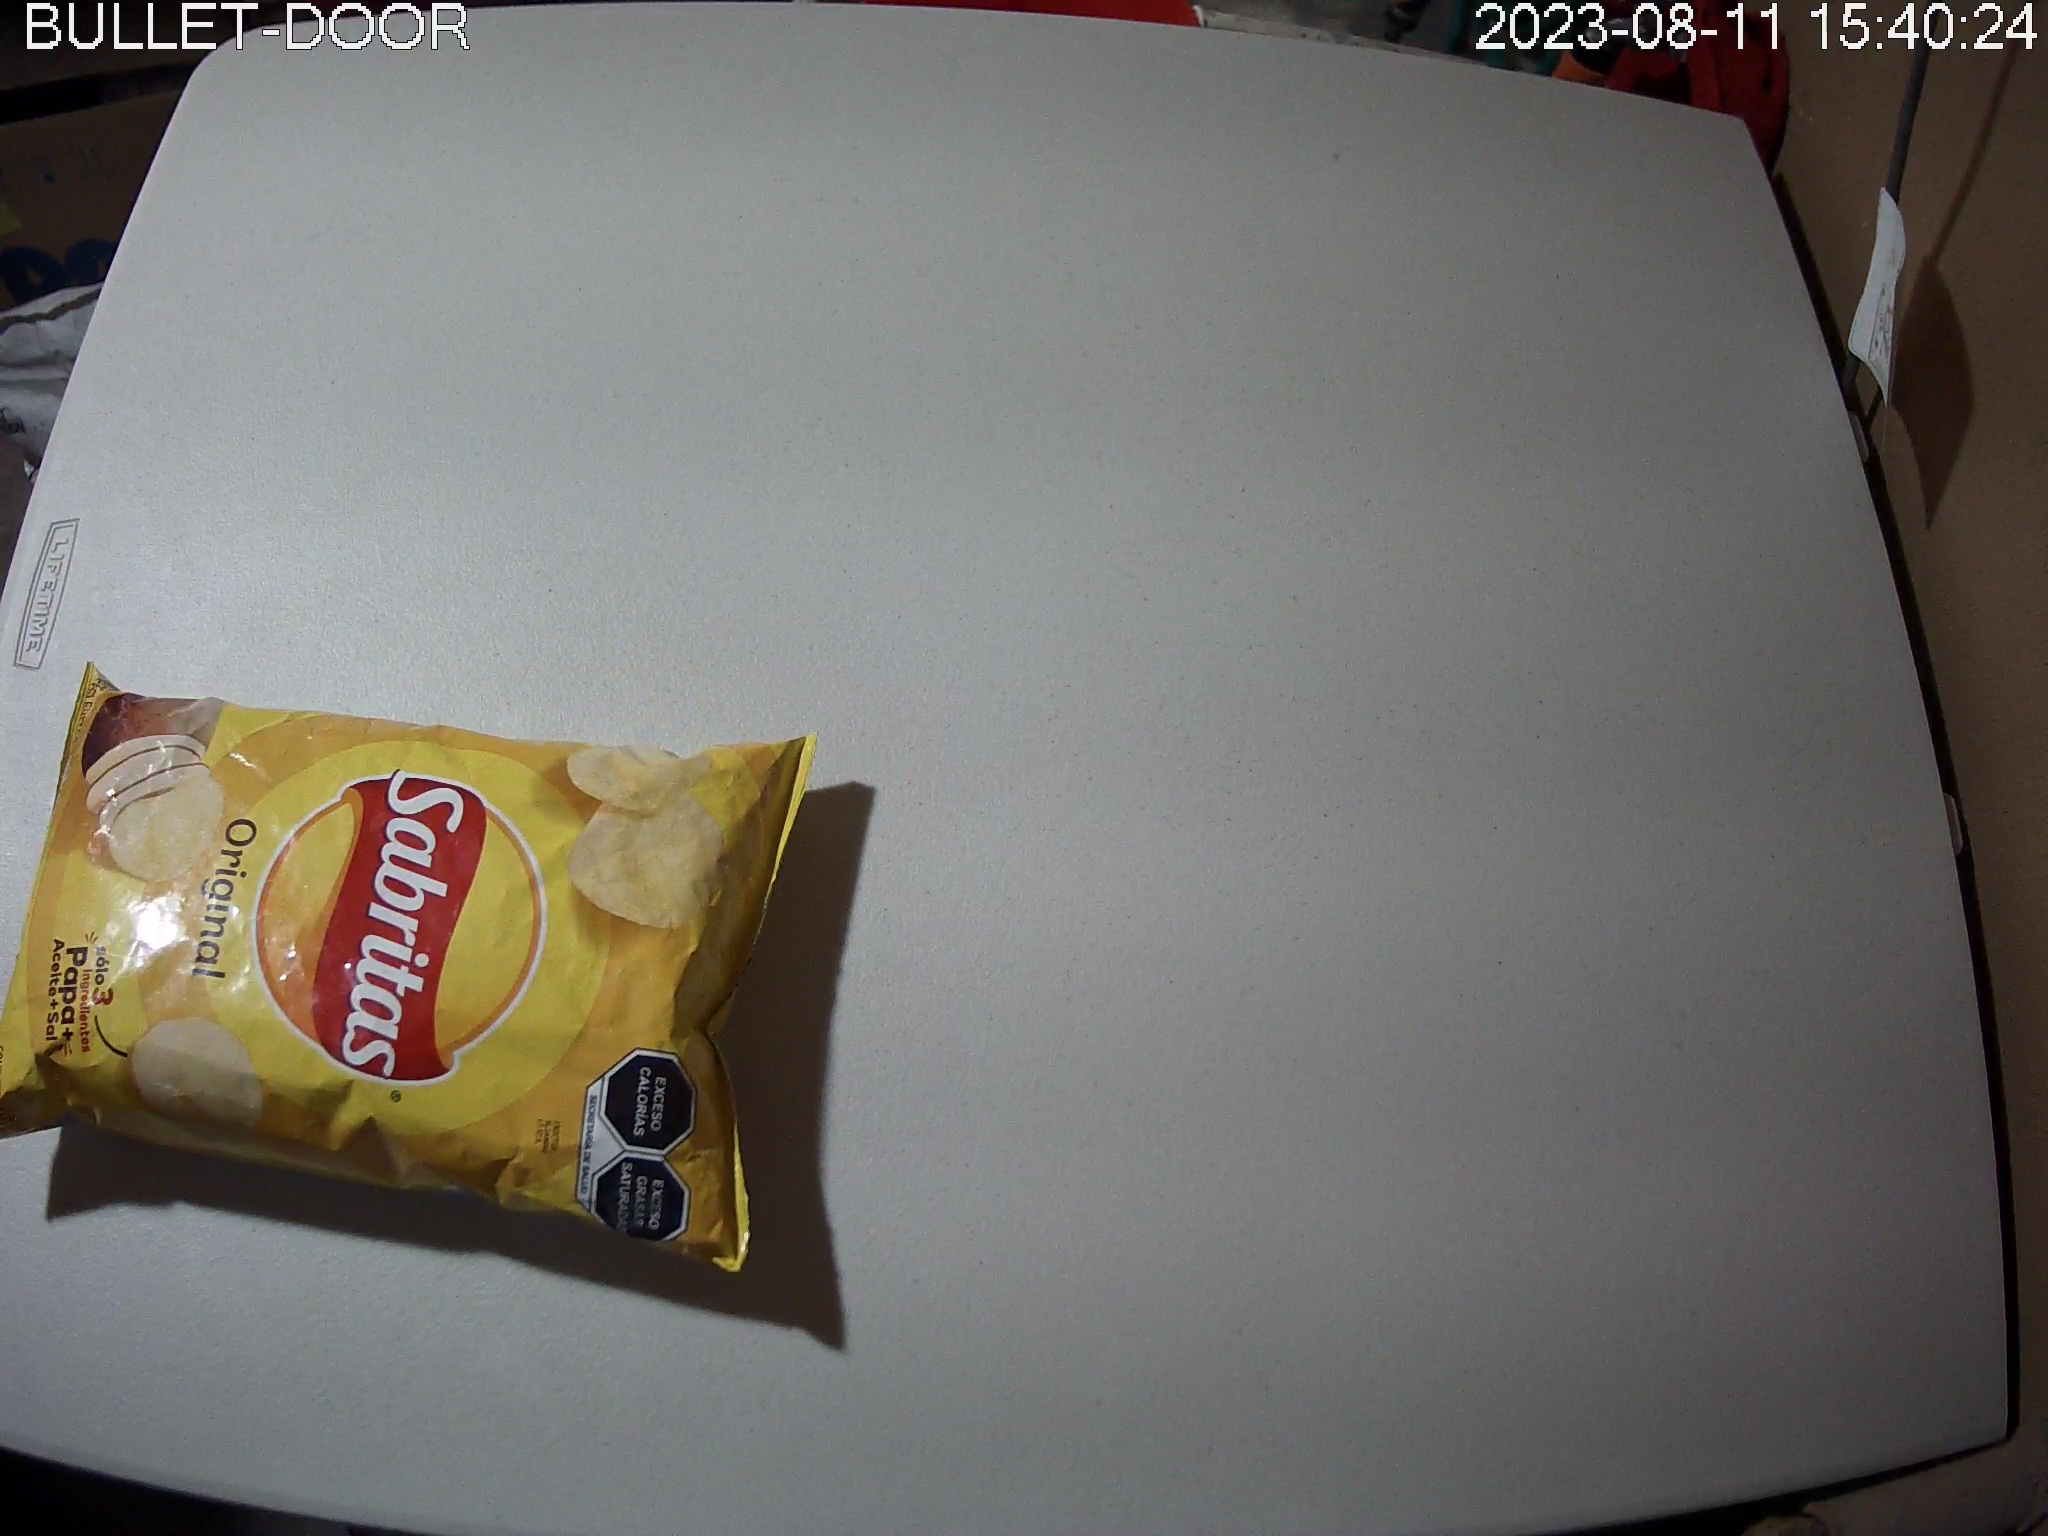Sabritas_160_F: (2, 662, 822, 1278)
